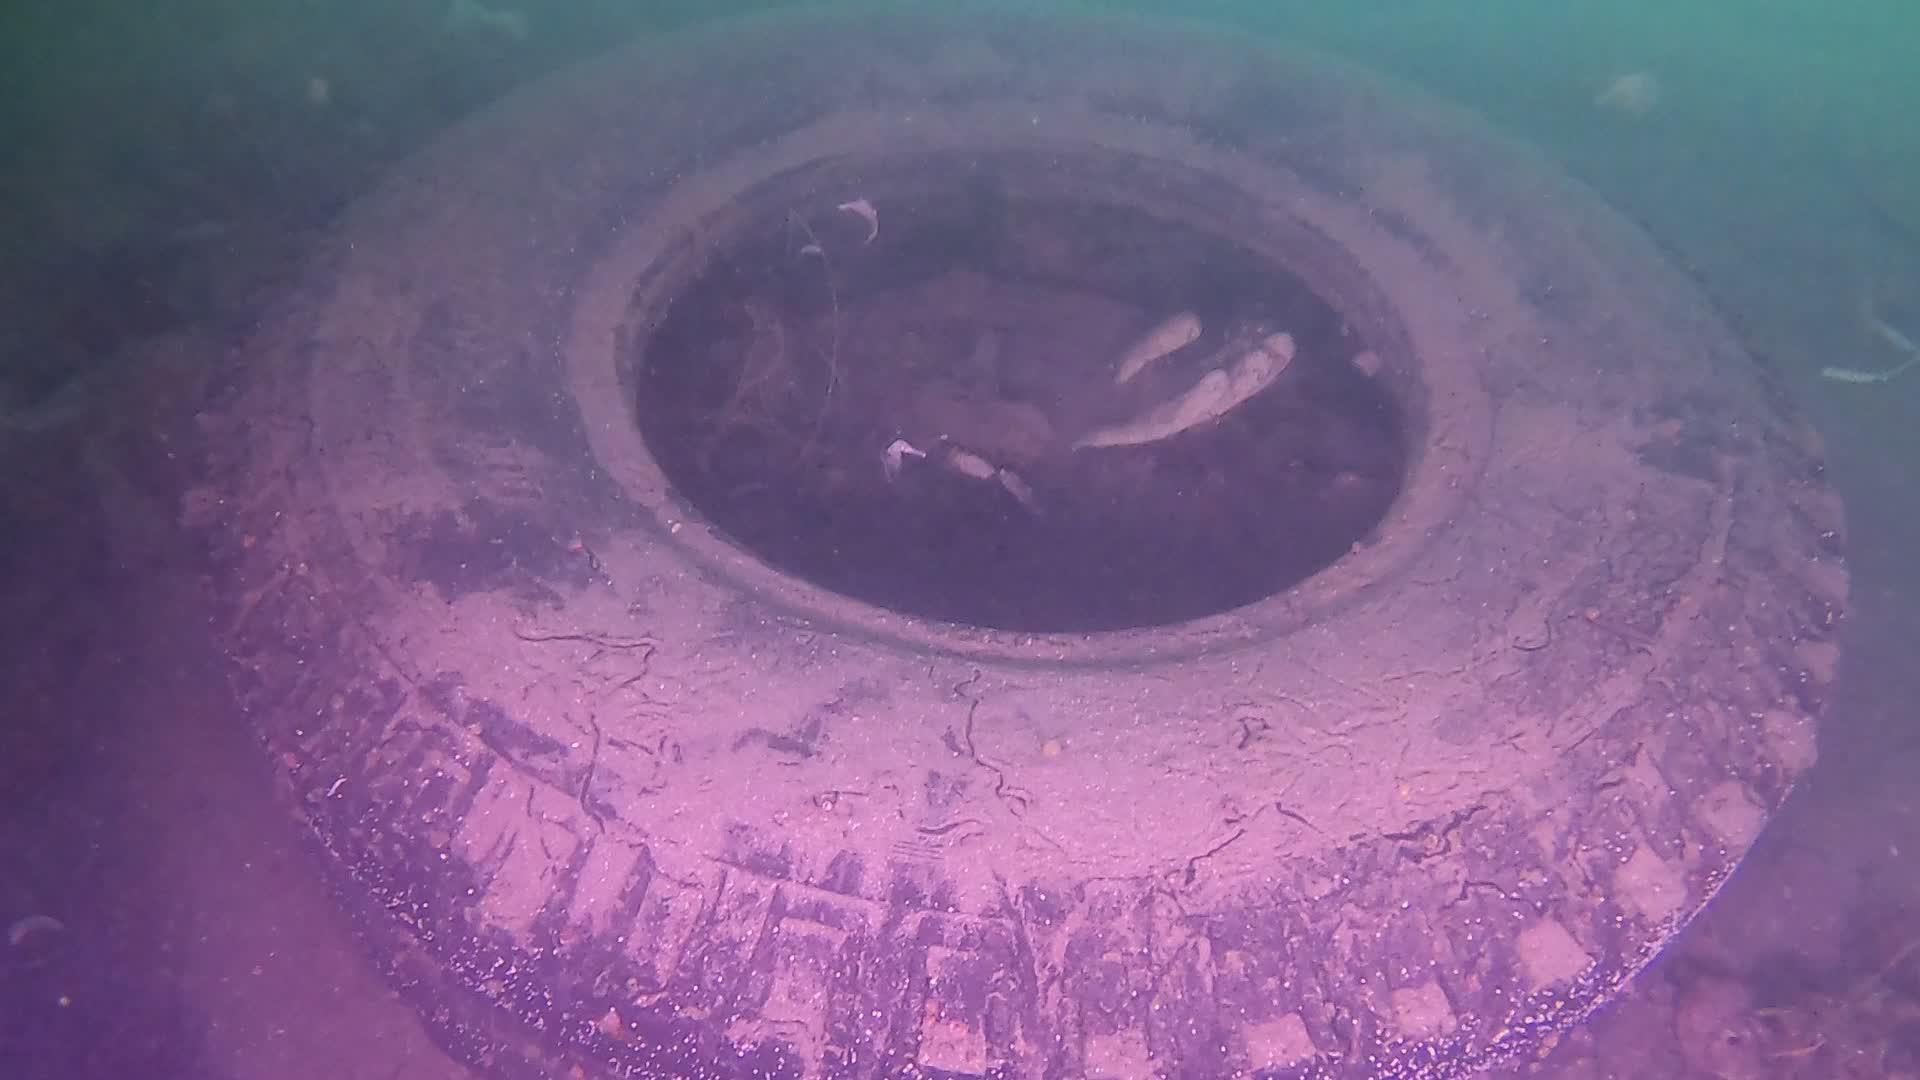tire: (199, 0, 1851, 1080)
